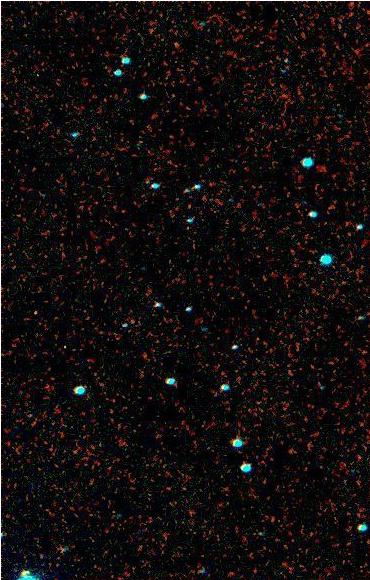star: (19, 297, 49, 327)
